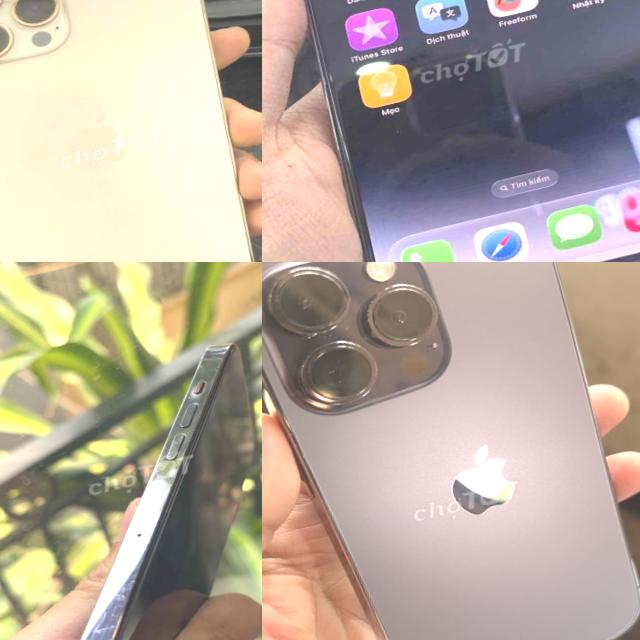scratch: (289, 290, 391, 362), (80, 562, 159, 622), (133, 439, 204, 502), (175, 336, 252, 394), (38, 618, 141, 640)
